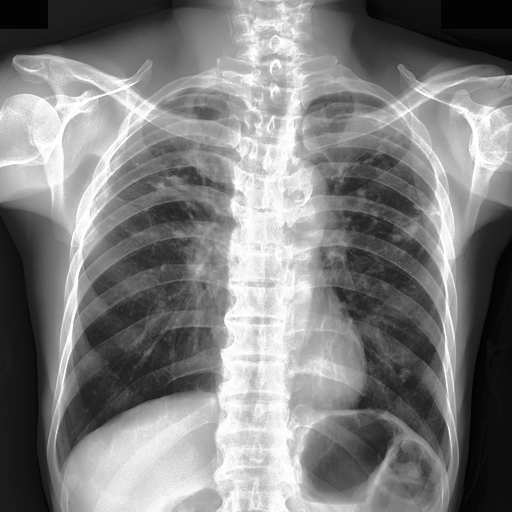Pneumothorax: (115, 87, 222, 243), (318, 126, 443, 258), (399, 369, 408, 383)
Pulmonary fibrosis: (395, 366, 410, 383)
